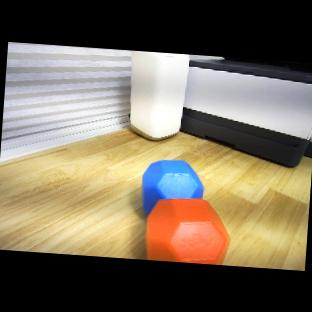V5_BLUE: (141, 159, 203, 214), (141, 161, 205, 199)
V5_RED: (146, 198, 233, 264), (145, 198, 229, 265)
